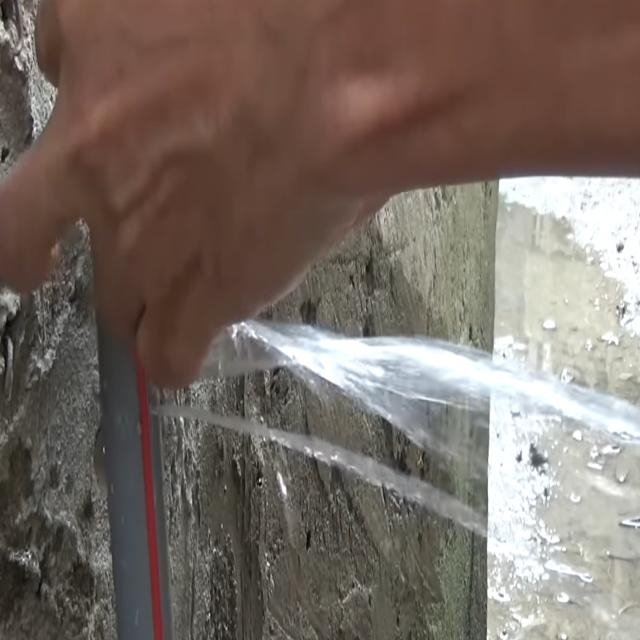leak: (204, 320, 640, 480), (159, 404, 488, 537)
